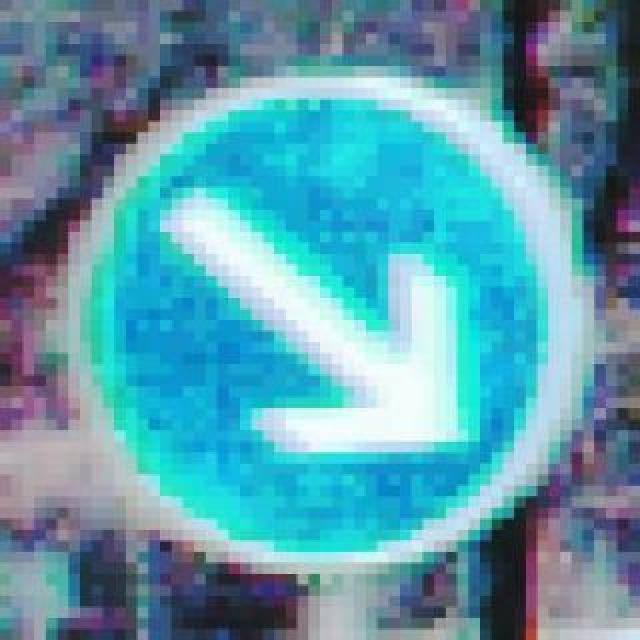keep right: (56, 54, 572, 574)
